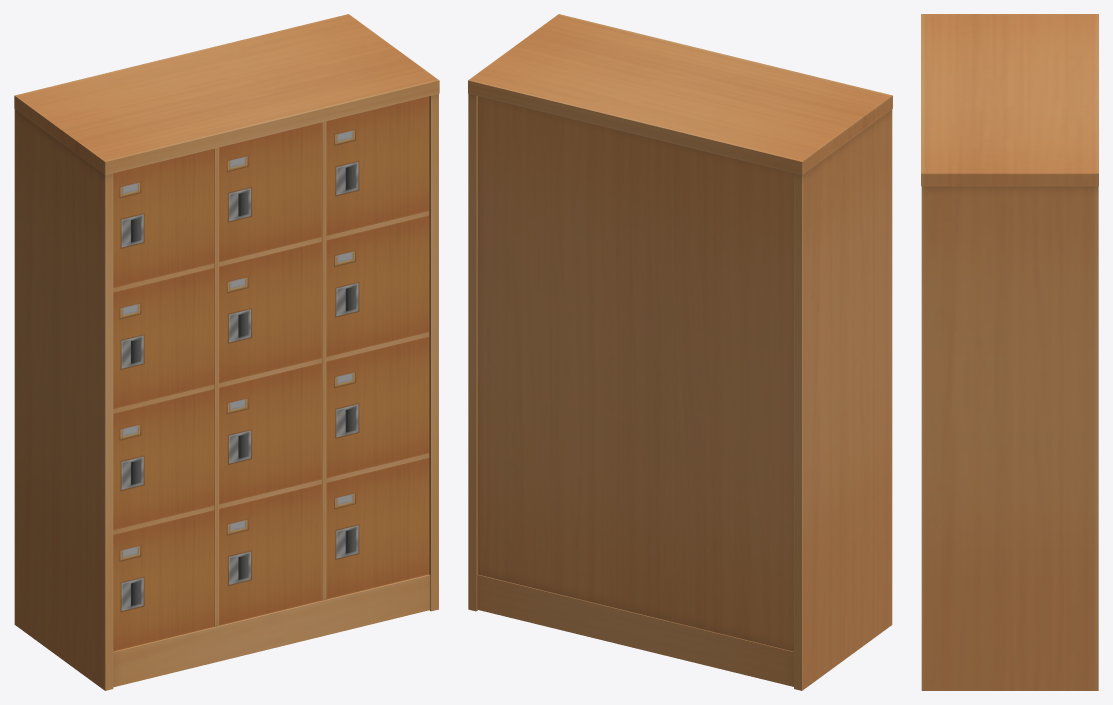
File: set_shoecupboard_b_13.fbx
The picture shows the model from 3 angles, left to right: view 1: azimuth 30°, elevation 25°; view 2: azimuth 150°, elevation 25°; view 3: azimuth 270°, elevation 25°; orthographic projection. The views are drawn at different scales.
Visible parts, largest first — view 1: shoecupboard_b_13, door_b_13_10, door_b_13_11, door_b_13_12, door_b_13_07, door_b_13_08, door_b_13_06, door_b_13_09, door_b_13_04, door_b_13_02, door_b_13_03, door_b_13_05 (+1 smaller); view 2: shoecupboard_b_13; view 3: shoecupboard_b_13.
Boxes of the visible parts, bbox=[...] form: shoecupboard_b_13: bbox=[14, 14, 439, 690]; door_b_13_10: bbox=[326, 215, 429, 356]; door_b_13_11: bbox=[326, 336, 429, 478]; door_b_13_12: bbox=[326, 458, 429, 599]; door_b_13_07: bbox=[219, 363, 321, 504]; door_b_13_08: bbox=[219, 484, 321, 625]; door_b_13_06: bbox=[219, 241, 321, 383]; door_b_13_09: bbox=[326, 96, 429, 235]; door_b_13_04: bbox=[113, 510, 214, 651]; door_b_13_02: bbox=[113, 268, 214, 408]; door_b_13_03: bbox=[113, 389, 214, 530]; door_b_13_05: bbox=[219, 122, 321, 262]; shoecupboard_b_13: bbox=[468, 14, 892, 690]; shoecupboard_b_13: bbox=[921, 14, 1098, 690].
Size of the model in its own units: 79.39 by 120 by 37.38.
